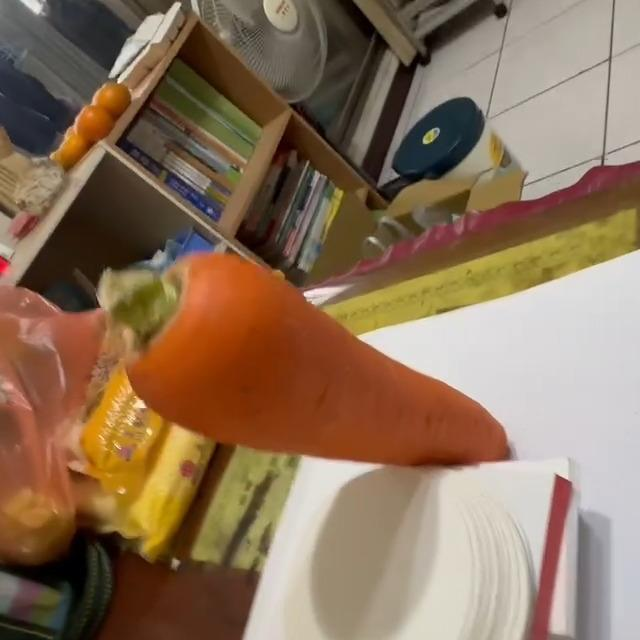carrot: (105, 252, 512, 467)
